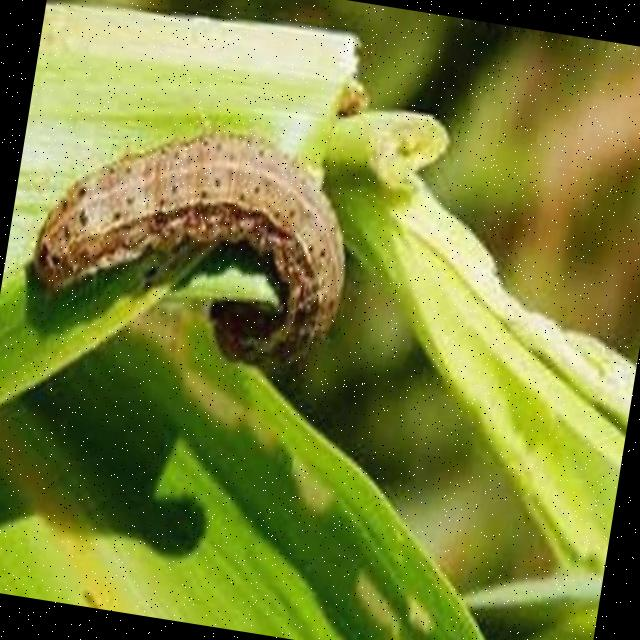worm: (19, 97, 368, 386)
